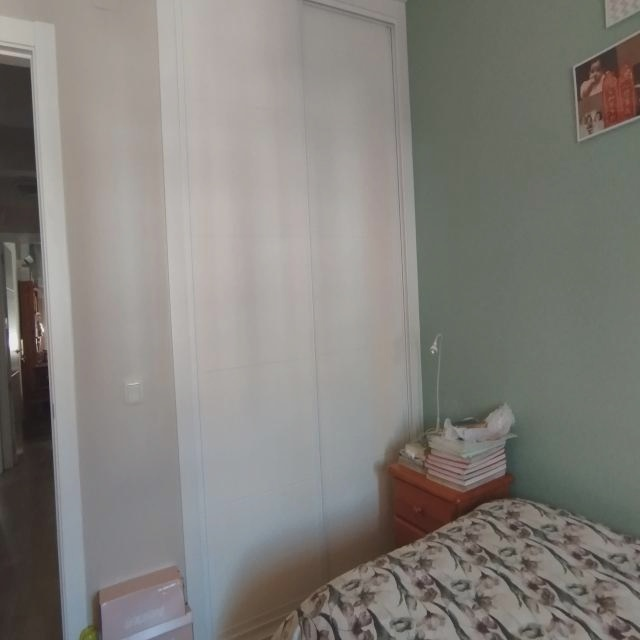bed: (269, 498, 640, 640)
lamp: (430, 334, 442, 436)
nighttable: (386, 459, 515, 549)
toilet: (150, 0, 423, 640)
